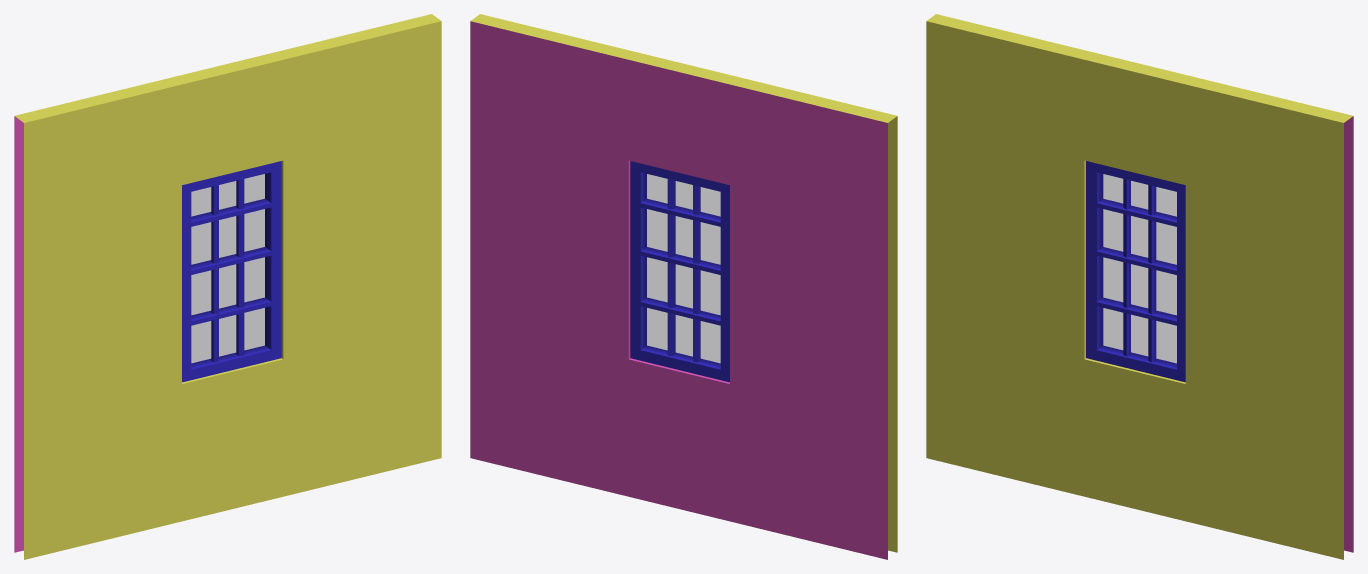
The model's file is SM_wall6.fbx.
The picture shows the model from 3 angles, left to right: view 1: azimuth 30°, elevation 25°; view 2: azimuth 150°, elevation 25°; view 3: azimuth 330°, elevation 25°; orthographic projection.
Parts seen in each view (by area): view 1: wall6; view 2: wall6; view 3: wall6.
Part boxes in pixels (x1,y1,x2,y2): wall6: (14, 14, 441, 559); wall6: (470, 14, 897, 559); wall6: (926, 14, 1353, 559).
Size of the model in its own units: 300 by 300 by 12.17.
